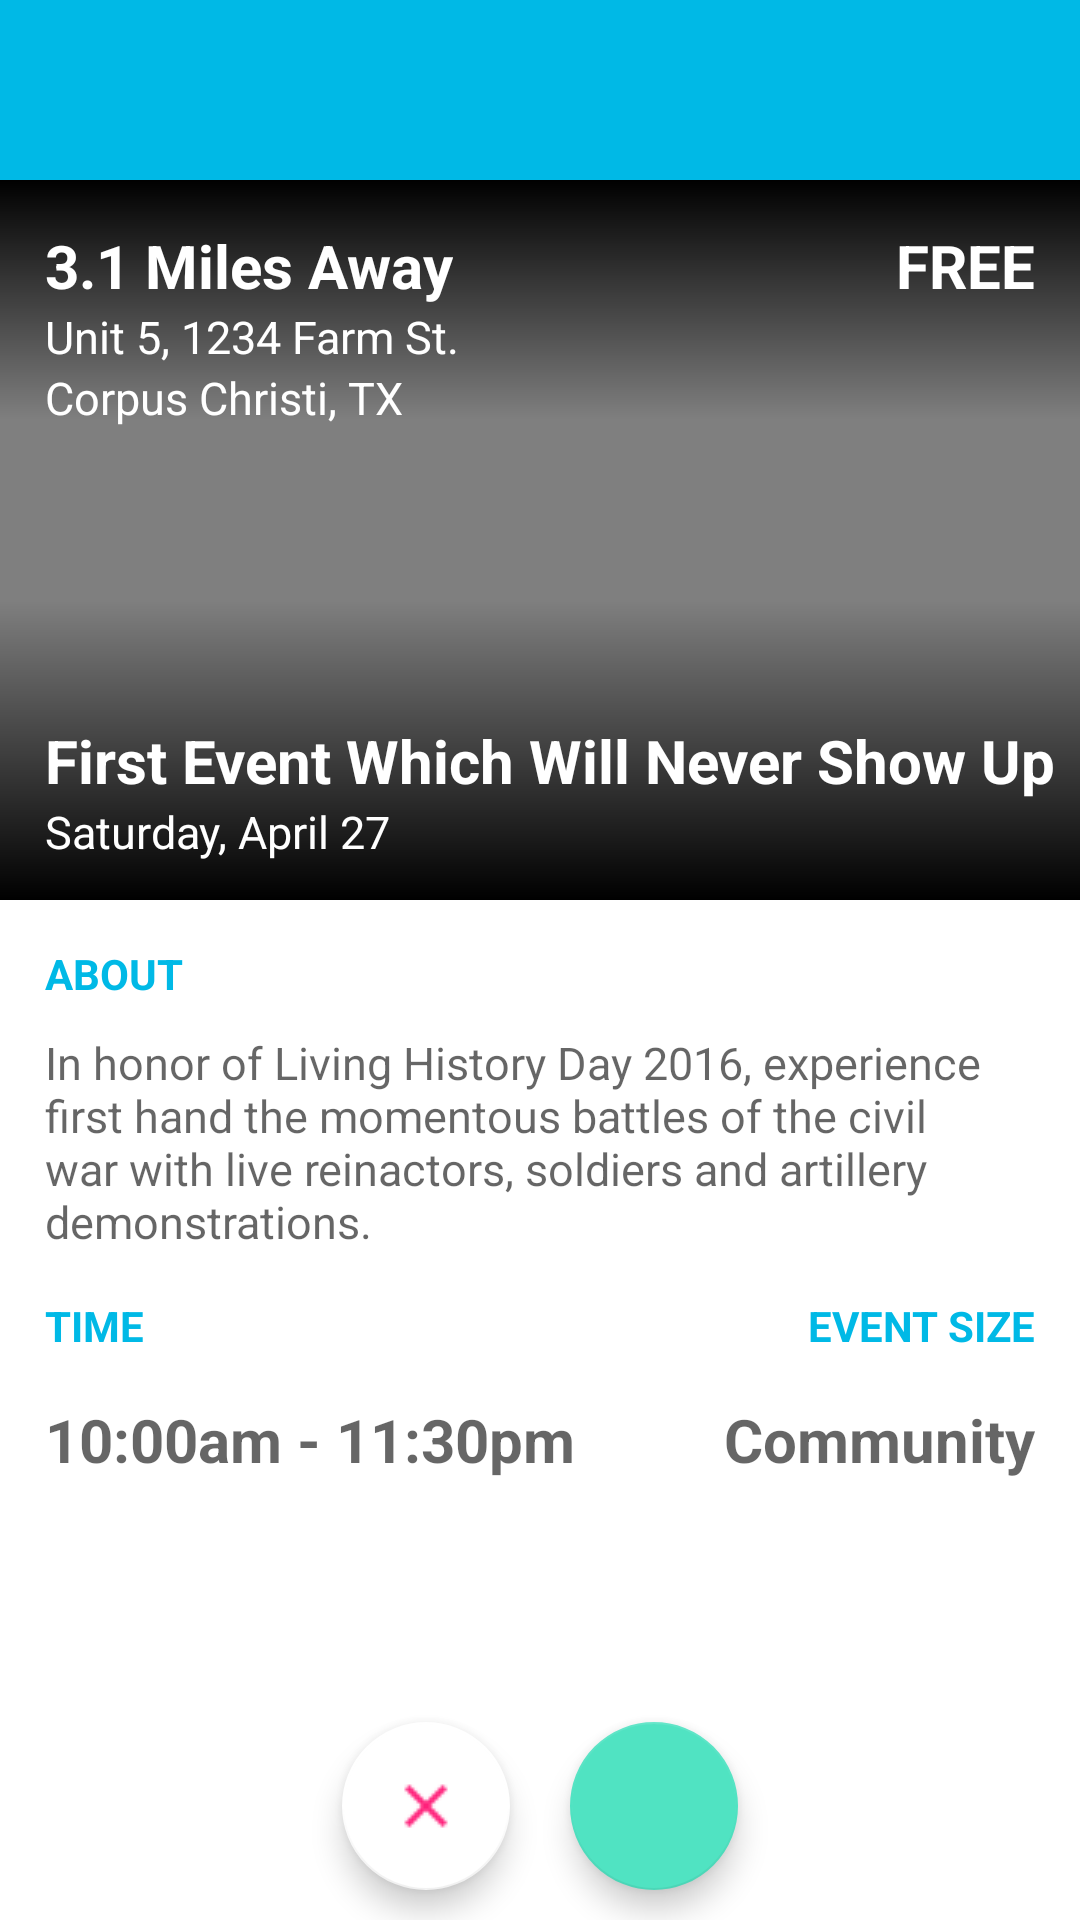

Icon bounding boxes for this 1080px x 1920px phone screenshot, format (x1, y1, x2, y2):
close: (342, 1784, 509, 1890)
